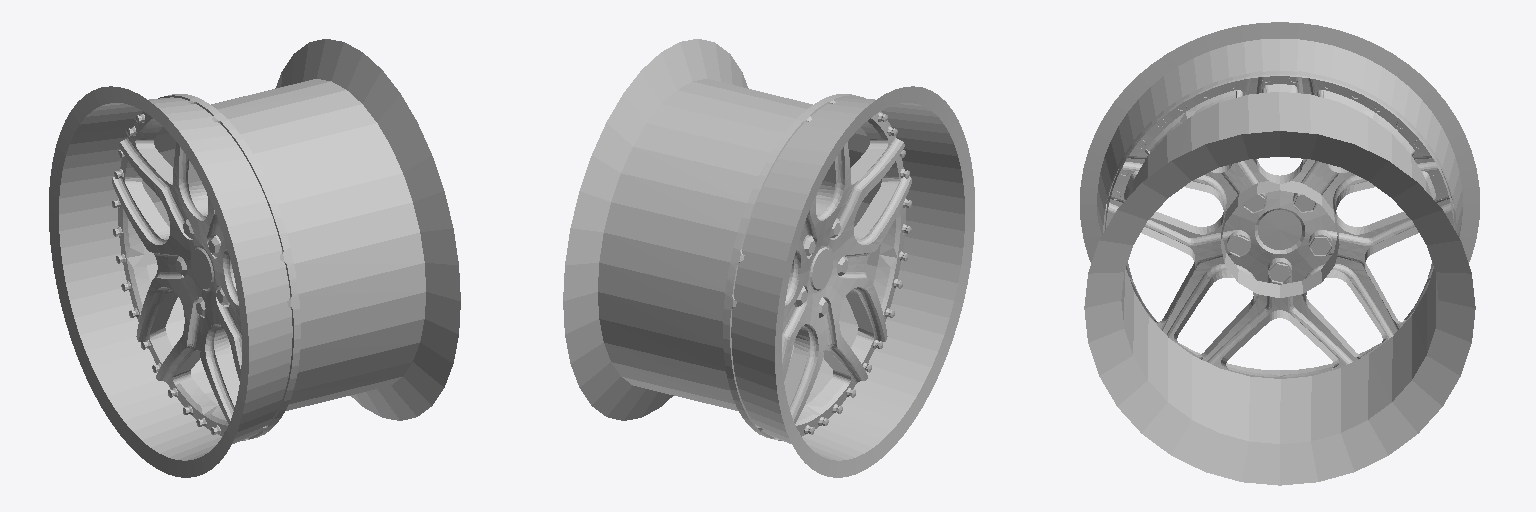
The model's file is wheel_1.obj.
The picture shows the model from 3 angles: view 1: azimuth 30°, elevation 25°; view 2: azimuth 150°, elevation 25°; view 3: azimuth 270°, elevation 25°; orthographic projection.
Visible parts, largest first — view 1: wheel_hiend_11.002; view 2: wheel_hiend_11.002; view 3: wheel_hiend_11.002.
Boxes of the visible parts, x1,y1,x2,y2 form: wheel_hiend_11.002: [49, 39, 460, 477]; wheel_hiend_11.002: [563, 39, 974, 477]; wheel_hiend_11.002: [1080, 22, 1479, 485].
Size of the model in its own units: 0.4867 by 0.7884 by 0.7884.